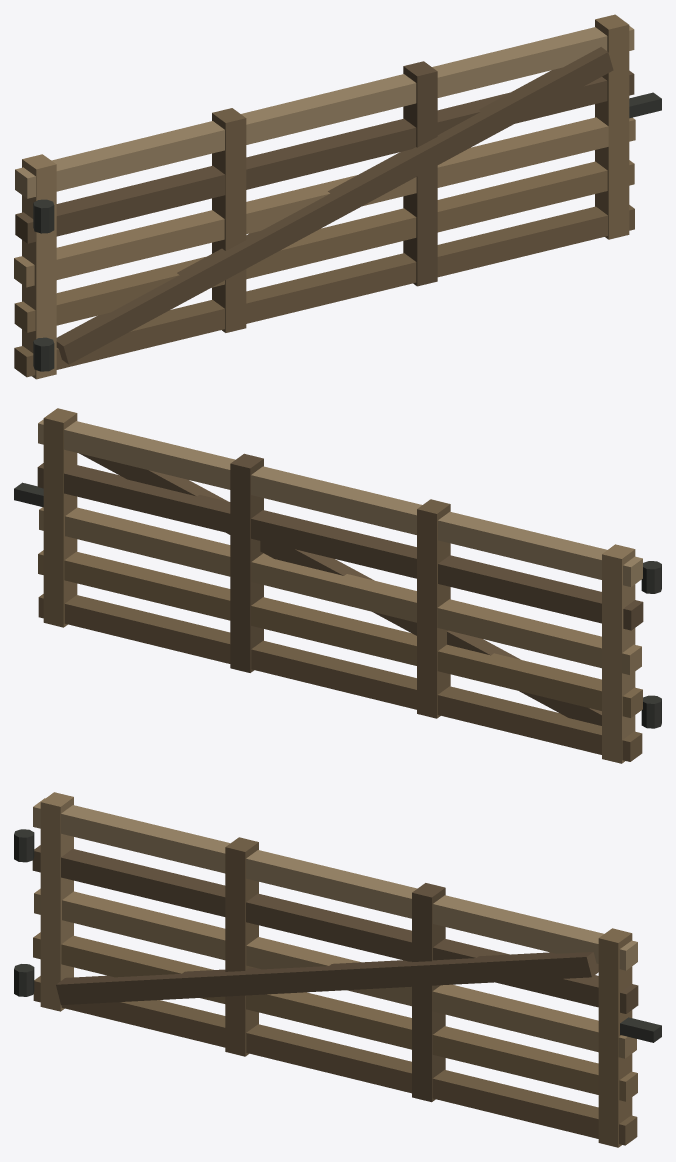
File: lwf_farm_gate_leaf_v1.glb
3 renders of one model, top to bottom at view 1: azimuth 30°, elevation 25°; view 2: azimuth 150°, elevation 25°; view 3: azimuth 330°, elevation 25°, orthographic. The views are drawn at different scales.
Visible parts, largest first — view 1: lwf_farm_gate_leaf_v1; view 2: lwf_farm_gate_leaf_v1; view 3: lwf_farm_gate_leaf_v1.
Part boxes in pixels (<box>): lwf_farm_gate_leaf_v1: <box>14,14,661,379</box>; lwf_farm_gate_leaf_v1: <box>14,408,661,763</box>; lwf_farm_gate_leaf_v1: <box>14,792,661,1147</box>.
Size of the model in its own units: 3.45 by 1.08 by 0.2954.
Materials: 1 (1 with a texture image).
